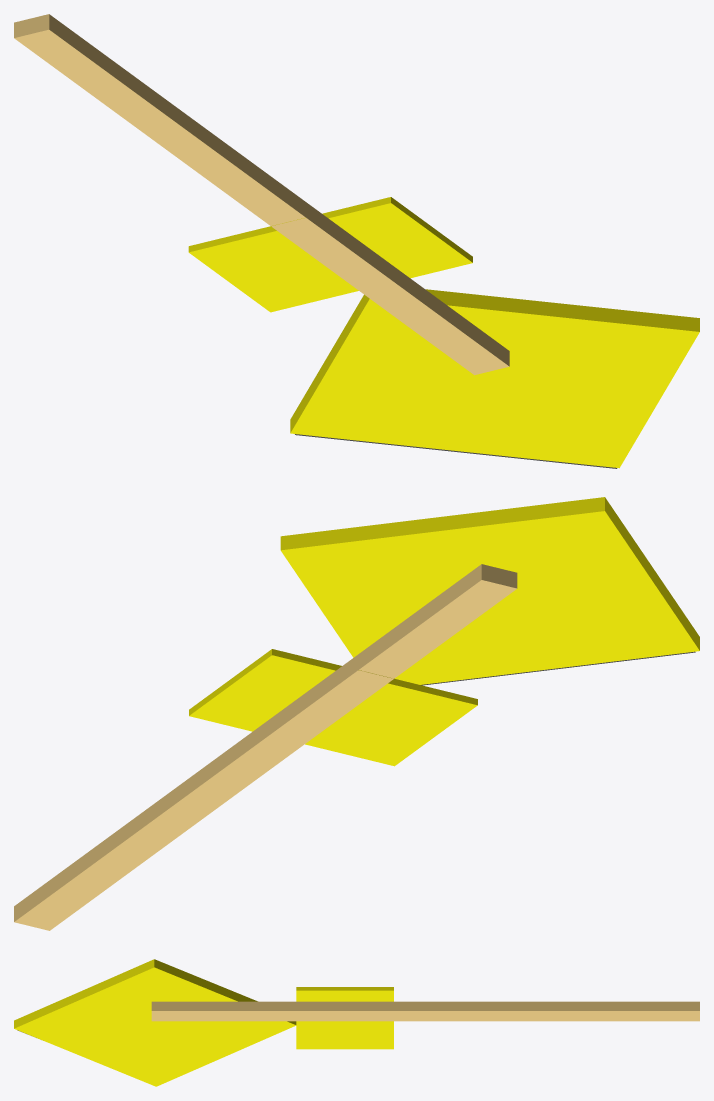
Rendered from MOOSIGN.glb.
3 views of the same model, one above another, from view 1: azimuth 30°, elevation 25°; view 2: azimuth 150°, elevation 25°; view 3: azimuth 270°, elevation 25° (orthographic). The views are drawn at different scales.
Visible parts, largest first — view 1: _0; view 2: _0; view 3: _0.
Boxes of the visible parts, x1,y1,x2,y2 form: _0: [14, 14, 699, 468]; _0: [14, 497, 699, 930]; _0: [14, 959, 699, 1086].
Bounding box in the file's own units: 1.95 × 0.1621 × 4.72.
